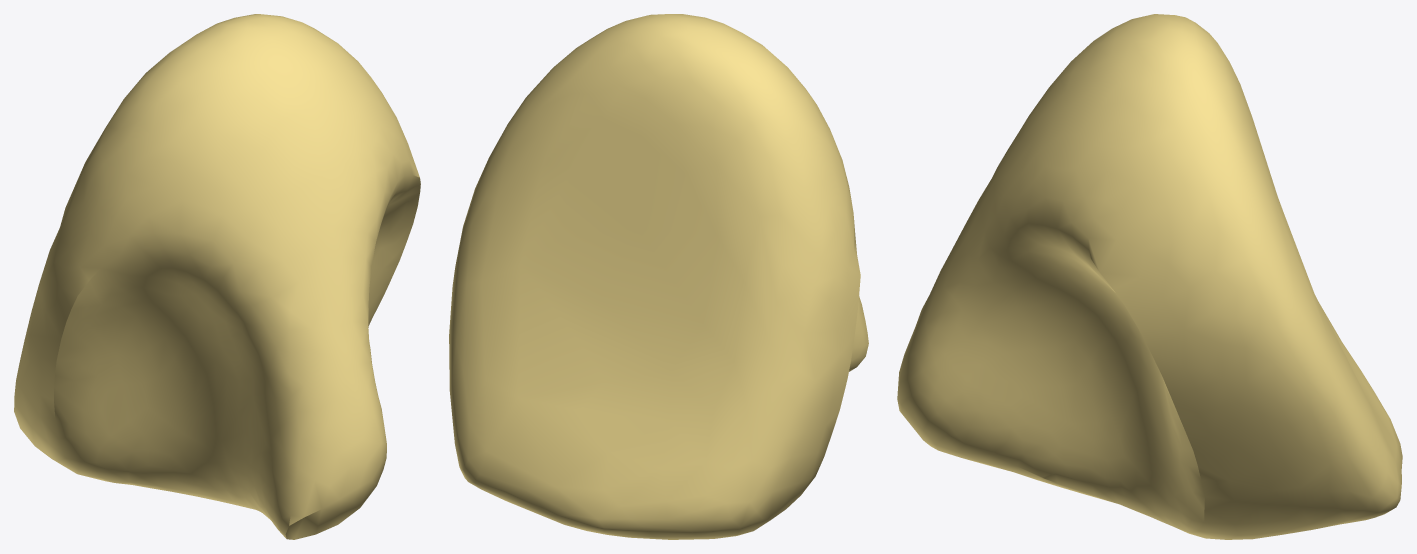
File: fma83883_mm3226.glb
3 renders of one model, left to right at view 1: azimuth 30°, elevation 25°; view 2: azimuth 150°, elevation 25°; view 3: azimuth 270°, elevation 25°, orthographic. The views are drawn at different scales.
Parts seen in each view (by area): view 1: FMA83883_MM3226; view 2: FMA83883_MM3226; view 3: FMA83883_MM3226.
Part boxes in pixels (bbox=[...]): FMA83883_MM3226: bbox=[14, 14, 420, 539]; FMA83883_MM3226: bbox=[449, 14, 868, 539]; FMA83883_MM3226: bbox=[897, 14, 1402, 539].
Size of the model in its own units: 0.0127 by 0.0161 by 0.0152.
